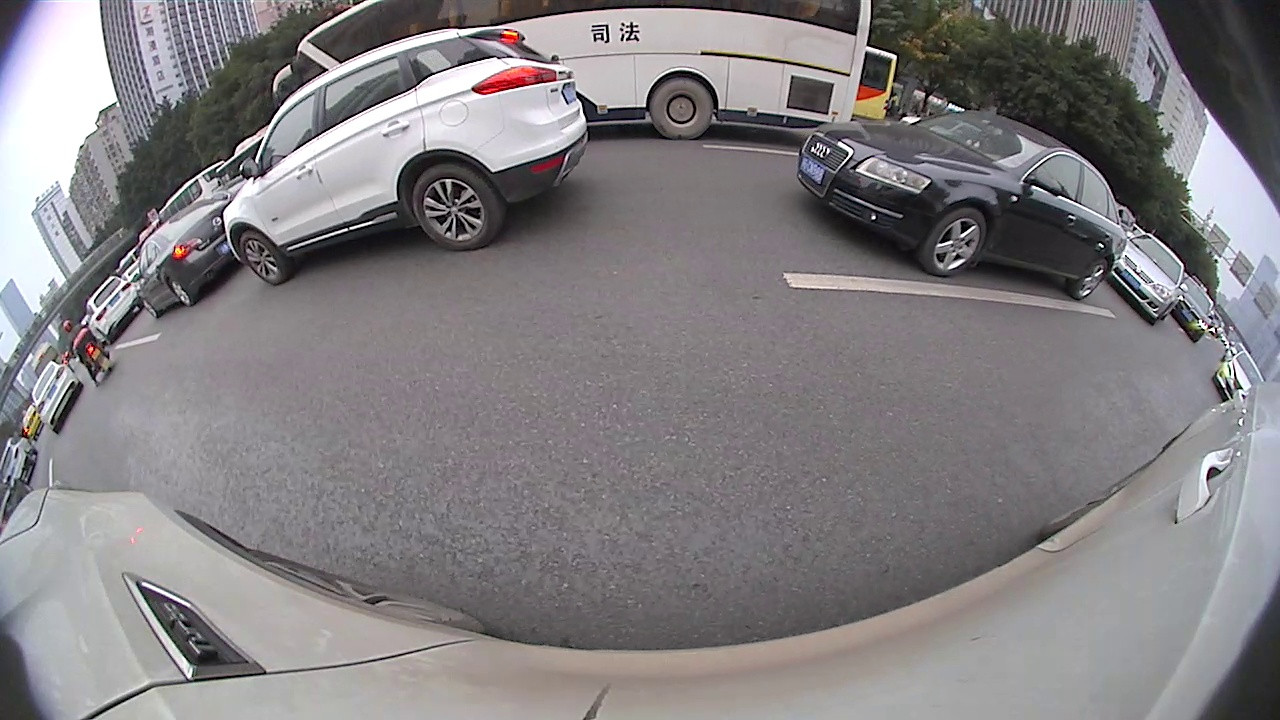bus: (265, 1, 869, 144), (206, 124, 277, 186), (156, 157, 221, 219), (851, 46, 899, 121)
car: (224, 26, 592, 286), (796, 108, 1127, 303), (134, 195, 247, 320), (1110, 231, 1185, 329), (76, 277, 147, 333), (29, 358, 82, 431), (1213, 346, 1267, 414), (1173, 278, 1222, 342), (3, 436, 40, 483)
front: (920, 213, 989, 277), (239, 233, 287, 284), (142, 298, 162, 317)
rear: (412, 162, 503, 249), (649, 78, 715, 139), (1070, 262, 1112, 299), (167, 276, 192, 304)
rider: (59, 319, 115, 382)
